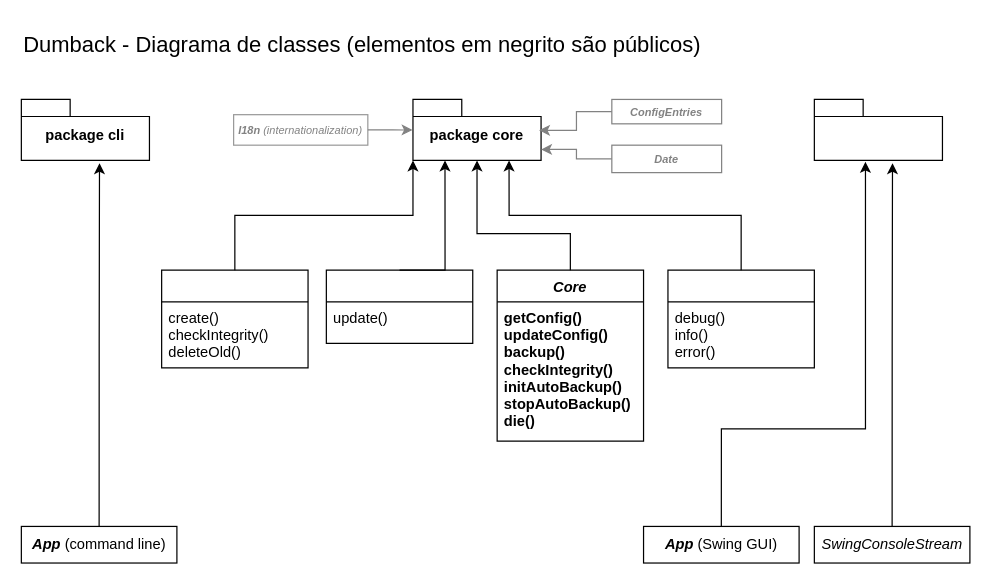
The diagram is 992 pixels wide and 584 high, and some of its shapes have lost their labels. Here are the shapes that lost their labels. From the top down, the box of each, then its label:
(813, 98, 942, 160): package gui
(160, 269, 308, 368): Backup
(325, 269, 473, 343): Config
(667, 269, 814, 368): Log
